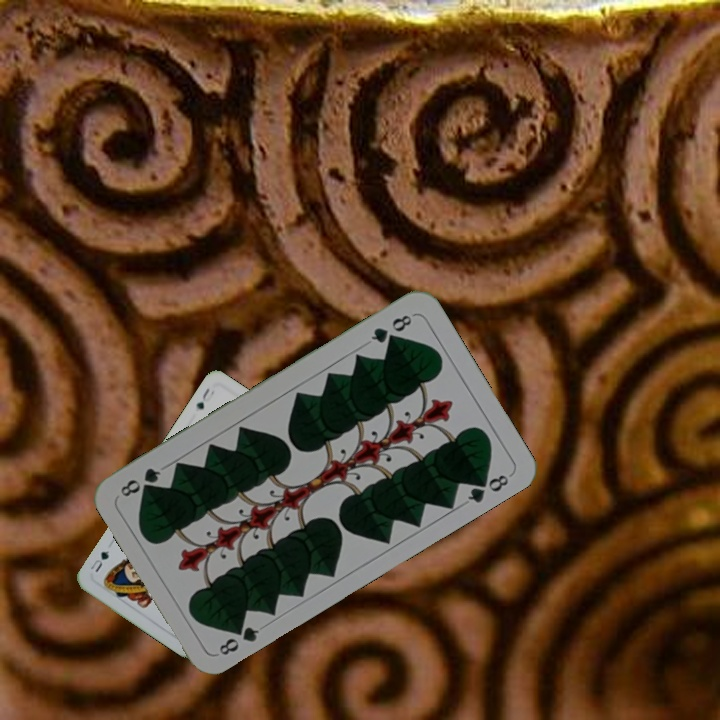G8: (215, 618, 261, 658), (367, 310, 417, 346)
GU: (192, 384, 217, 412)
